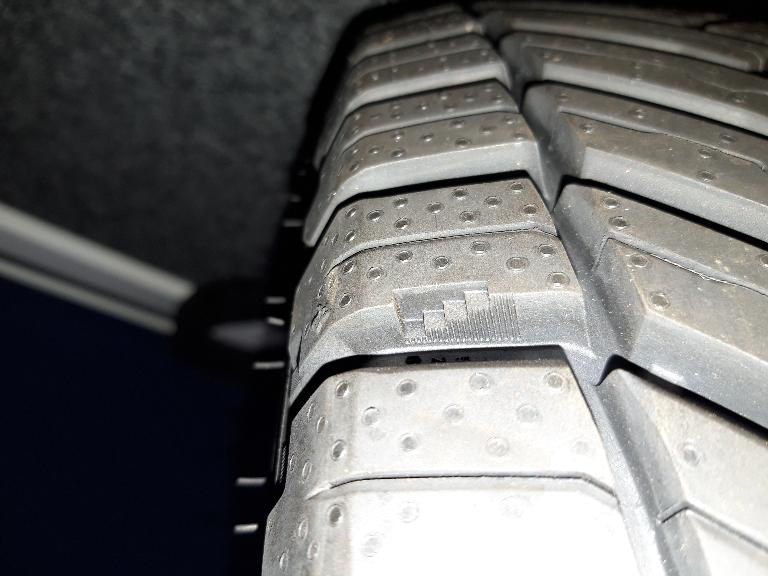temoin:100: (389, 278, 520, 348)
